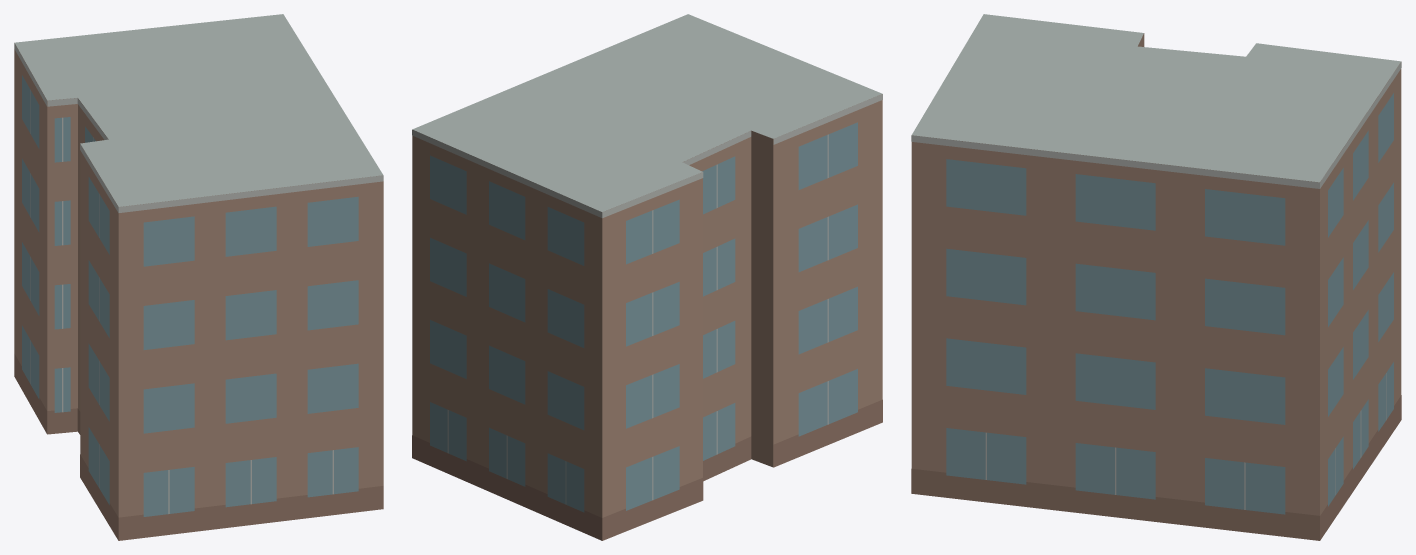
The model's file is survey-upis-32919350.glb.
3 renders of one model, left to right at view 1: azimuth 30°, elevation 25°; view 2: azimuth 150°, elevation 25°; view 3: azimuth 270°, elevation 25°, orthographic. The views are drawn at different scales.
Parts seen in each view (by area): view 1: survey-upis-32919350.tmp; view 2: survey-upis-32919350.tmp; view 3: survey-upis-32919350.tmp.
Part boxes in pixels (box(x1,y1,x2,y2)): survey-upis-32919350.tmp: box(14, 14, 383, 540); survey-upis-32919350.tmp: box(412, 14, 882, 540); survey-upis-32919350.tmp: box(911, 14, 1401, 540).
Size of the model in its own units: 13.31 by 13.2 by 16.36.
